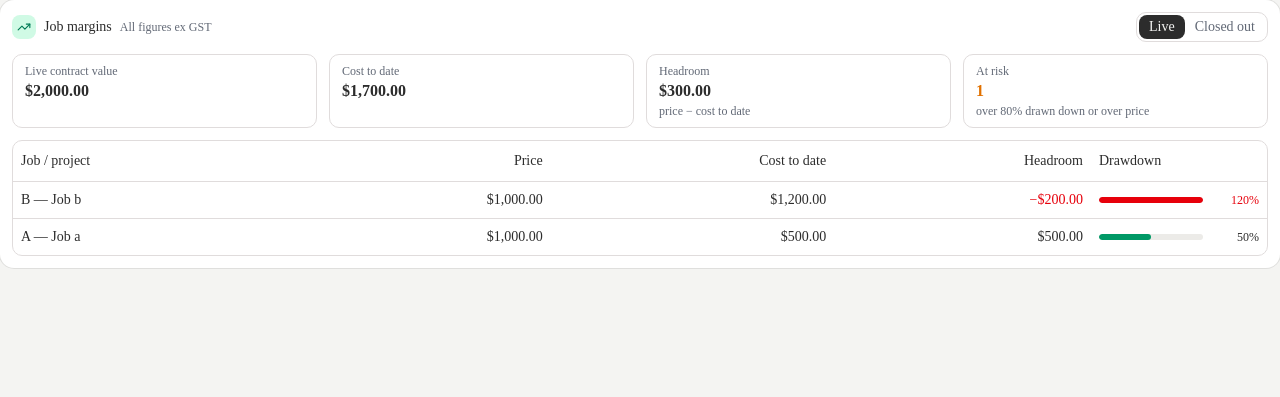
closed tab shows this FY by default with a weighted average
Click the radio button labelled "Closed out". click: point(1225, 27)
box: [1185, 15, 1265, 39]
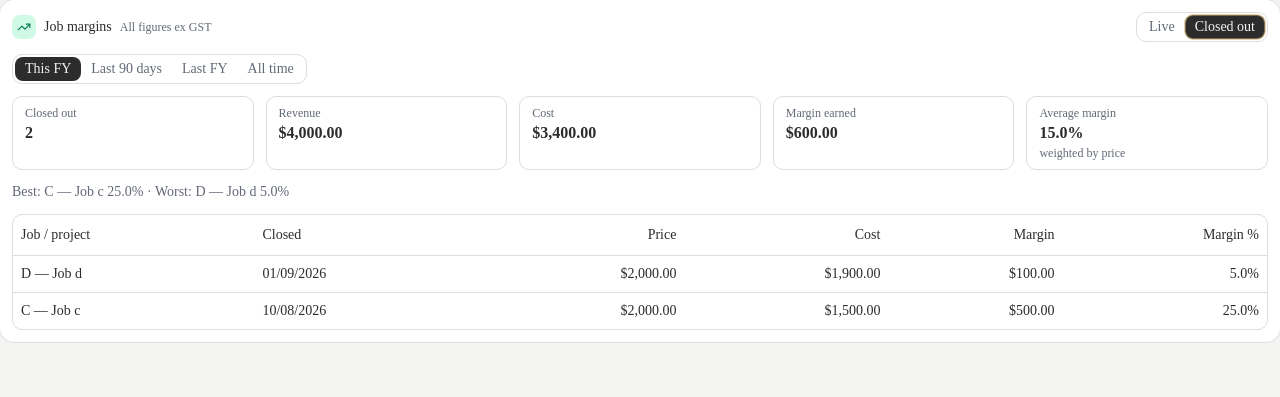
Check: the text "Job e" is not shown
Check: the text "15.0%" is shown, box [1039, 124, 1083, 141]
Click the radio button labelled "All time". click: point(271, 69)
box: [238, 57, 304, 81]
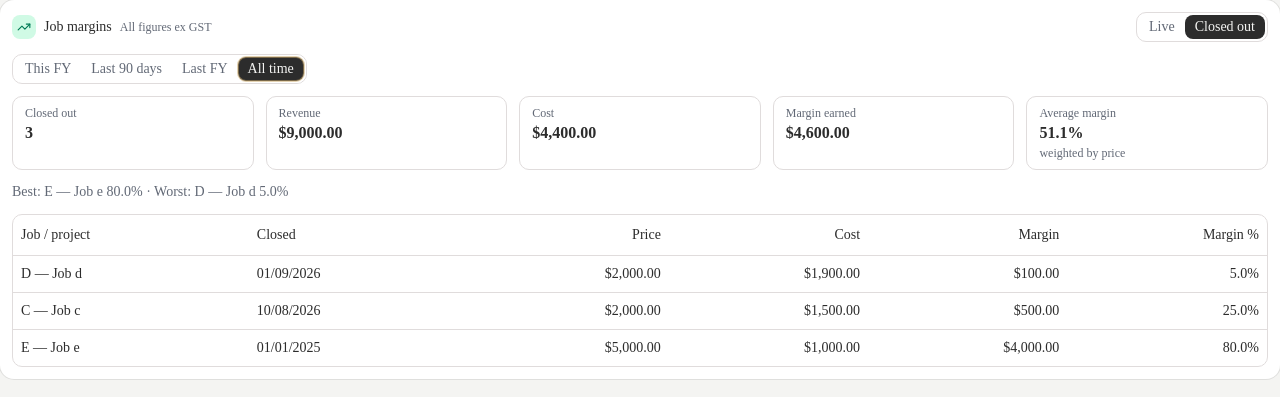
Check: the link "E — Job e" next to "Best:" is shown, box [44, 184, 103, 199]
